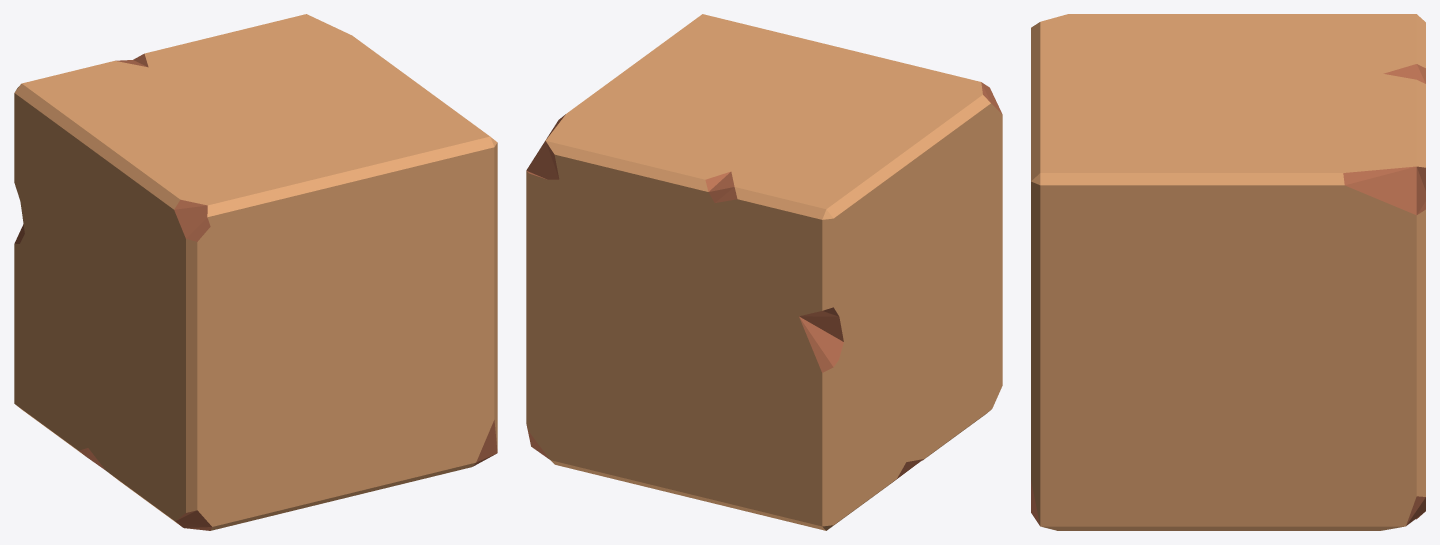
File: block.glb
3 renders of one model, left to right at view 1: azimuth 30°, elevation 25°; view 2: azimuth 150°, elevation 25°; view 3: azimuth 270°, elevation 25°, orthographic. The views are drawn at different scales.
Parts seen in each view (by area): view 1: Cube.001; view 2: Cube.001; view 3: Cube.001.
Boxes of the visible parts, left/top/right/bottom form: Cube.001: left=14, top=14, right=497, bottom=530; Cube.001: left=526, top=14, right=1002, bottom=530; Cube.001: left=1031, top=14, right=1425, bottom=530.
Bounding box in the file's own units: 2 × 2 × 2.
1 material, 1 textured.
